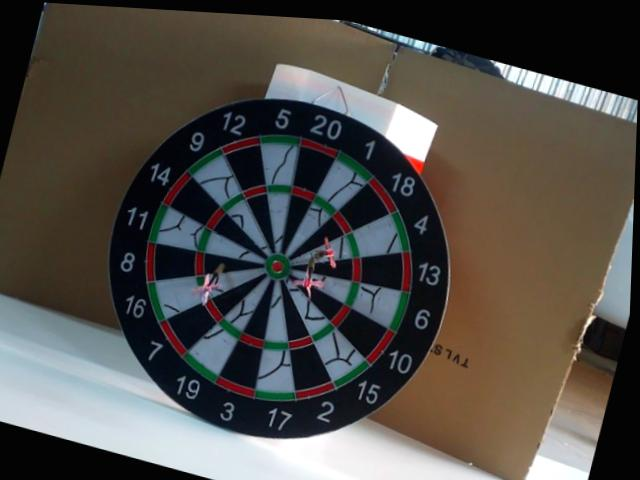single_4: (291, 237, 351, 270)
single_8: (203, 256, 261, 274)
